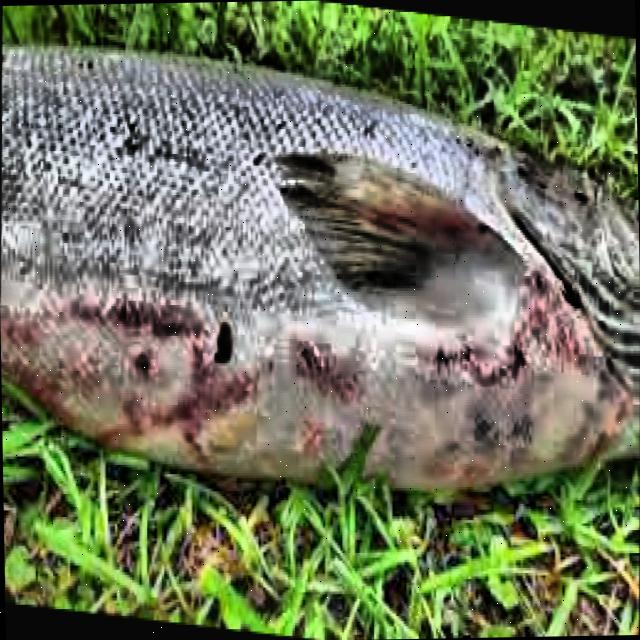mild_red: (0, 299, 273, 465), (427, 288, 601, 384), (287, 338, 365, 407), (581, 369, 633, 454), (295, 410, 331, 469), (429, 458, 492, 482)
